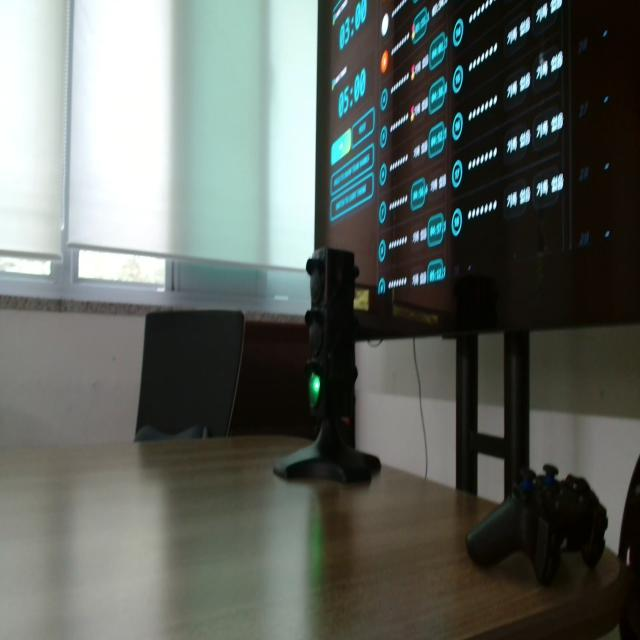green_light: (309, 374, 321, 407)
